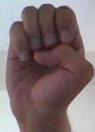E: (1, 2, 95, 121)
